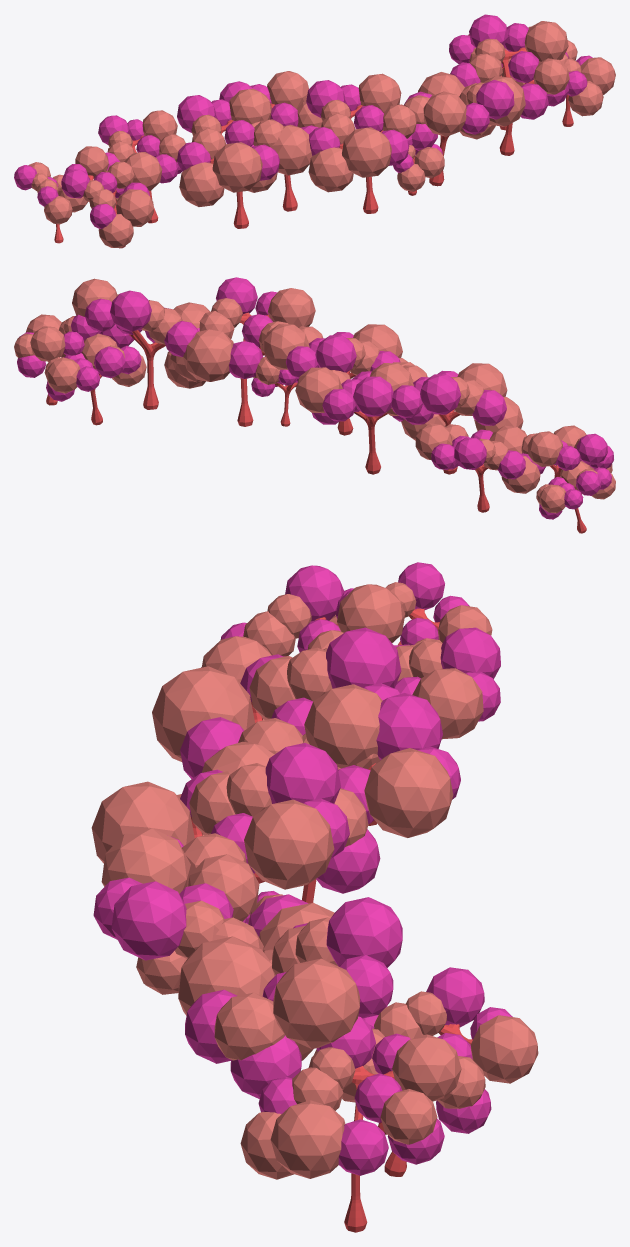
The model's file is TreesV1.1.fbx.
3 views of the same model, one above another, from view 1: azimuth 30°, elevation 25°; view 2: azimuth 150°, elevation 25°; view 3: azimuth 270°, elevation 25° (orthographic). The views are drawn at different scales.
Parts seen in each view (by area): view 1: Icosphere.029, Icosphere.025, Icosphere.027, Icosphere.022, Icosphere.021, Icosphere.020, Icosphere.024, Icosphere.019, Icosphere.023, Icosphere.028, Icosphere.026; view 2: Icosphere.022, Icosphere.027, Icosphere.025, Icosphere.029, Icosphere.020, Icosphere.024, Icosphere.026, Icosphere.019, Icosphere.021, Icosphere.023, Icosphere.028; view 3: Icosphere.027, Icosphere.019, Icosphere.025, Icosphere.029, Icosphere.022, Icosphere.020, Icosphere.026, Icosphere.021, Icosphere.024, Icosphere.023, Icosphere.028.
Boxes of the visible parts, x1,y1,x2,y2 form: Icosphere.029: [306, 73, 416, 213]; Icosphere.025: [177, 88, 283, 228]; Icosphere.027: [450, 14, 569, 155]; Icosphere.022: [404, 72, 514, 186]; Icosphere.021: [61, 146, 153, 248]; Icosphere.020: [219, 71, 322, 211]; Icosphere.024: [98, 110, 185, 223]; Icosphere.019: [528, 26, 615, 126]; Icosphere.023: [14, 162, 87, 243]; Icosphere.028: [393, 144, 444, 195]; Icosphere.026: [449, 34, 525, 130]; Icosphere.022: [164, 277, 315, 426]; Icosphere.027: [72, 278, 210, 409]; Icosphere.025: [370, 363, 523, 474]; Icosphere.029: [262, 324, 407, 435]; Icosphere.020: [295, 362, 445, 474]; Icosphere.024: [415, 423, 540, 512]; Icosphere.026: [44, 333, 146, 425]; Icosphere.019: [14, 314, 100, 405]; Icosphere.021: [521, 425, 613, 477]; Icosphere.023: [536, 461, 615, 533]; Icosphere.028: [251, 357, 297, 426]; Icosphere.027: [178, 897, 402, 1098]; Icosphere.019: [240, 1016, 461, 1232]; Icosphere.025: [152, 627, 401, 883]; Icosphere.029: [91, 743, 349, 923]; Icosphere.022: [93, 828, 334, 1060]; Icosphere.020: [201, 693, 460, 903]; Icosphere.026: [314, 967, 538, 1176]; Icosphere.021: [201, 565, 405, 679]; Icosphere.024: [323, 627, 500, 825]; Icosphere.023: [329, 562, 492, 645]; Icosphere.028: [136, 891, 282, 994].
Bounding box in the file's own units: 17425 × 3831 × 5914.
